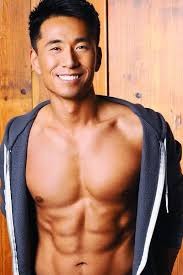asian_male: (20, 1, 118, 122)
